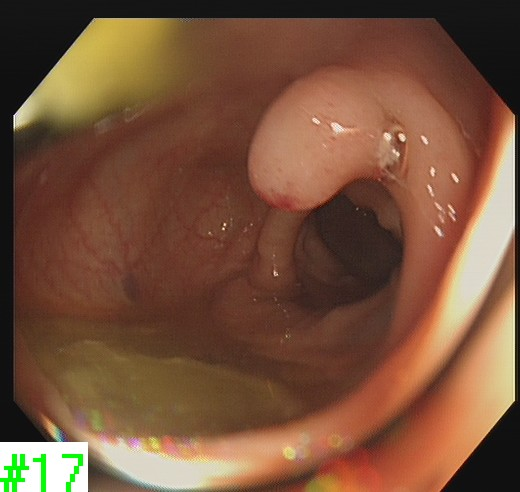adenoma: (243, 63, 394, 215)
